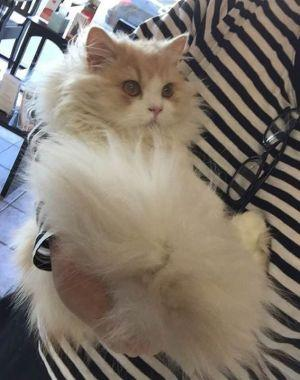persian: (72, 22, 198, 158)
